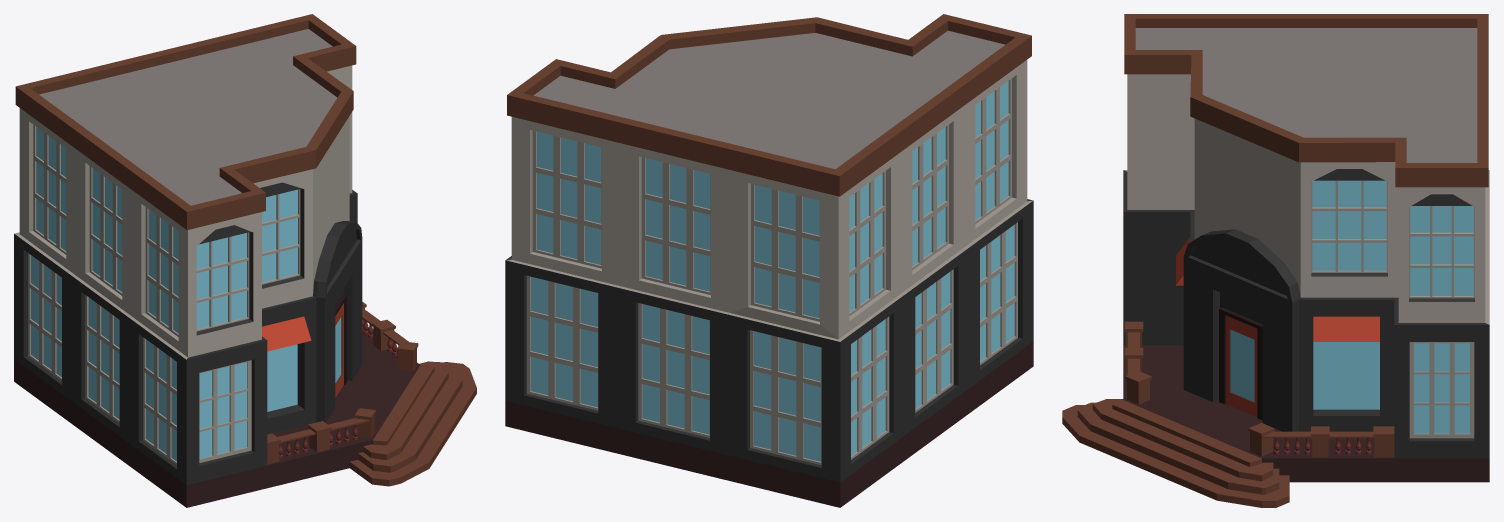
The model's file is SM_Restaurant_01_B.gltf.
3 renders of one model, left to right at view 1: azimuth 30°, elevation 25°; view 2: azimuth 150°, elevation 25°; view 3: azimuth 270°, elevation 25°, orthographic. The views are drawn at different scales.
Parts seen in each view (by area): view 1: SM_Restaurant_01_B; view 2: SM_Restaurant_01_B; view 3: SM_Restaurant_01_B.
Part boxes in pixels (box(x1,y1,x2,y2)): SM_Restaurant_01_B: box(14, 14, 476, 507); SM_Restaurant_01_B: box(505, 14, 1033, 507); SM_Restaurant_01_B: box(1062, 14, 1489, 507).
Size of the model in its own units: 4.27 by 3.46 by 4.27.
